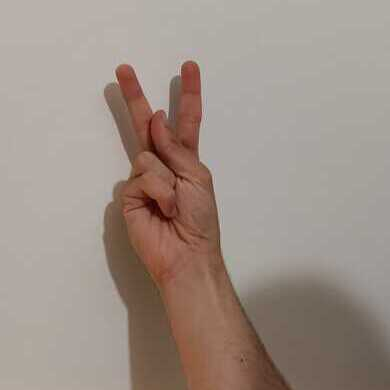K: (113, 61, 223, 279)
